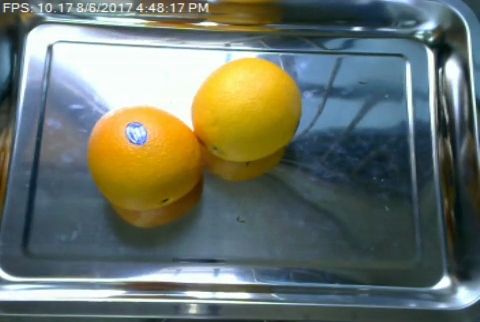Orange: (87, 104, 202, 209), (192, 55, 303, 161)
